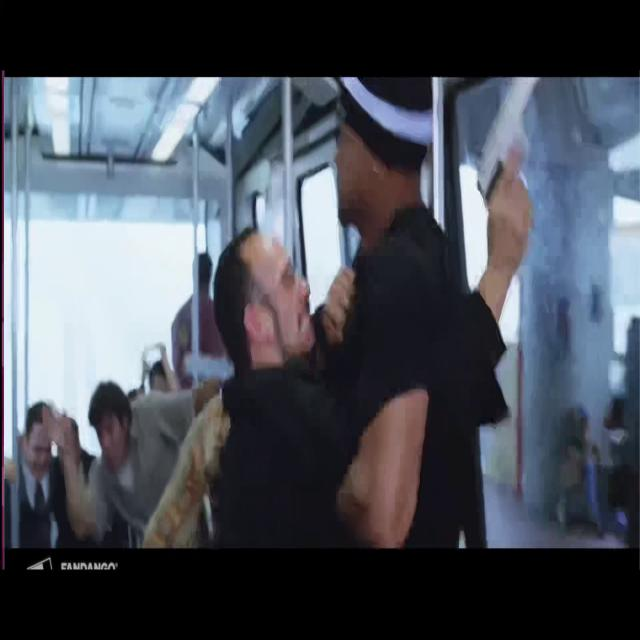weapons: (470, 76, 555, 247)
